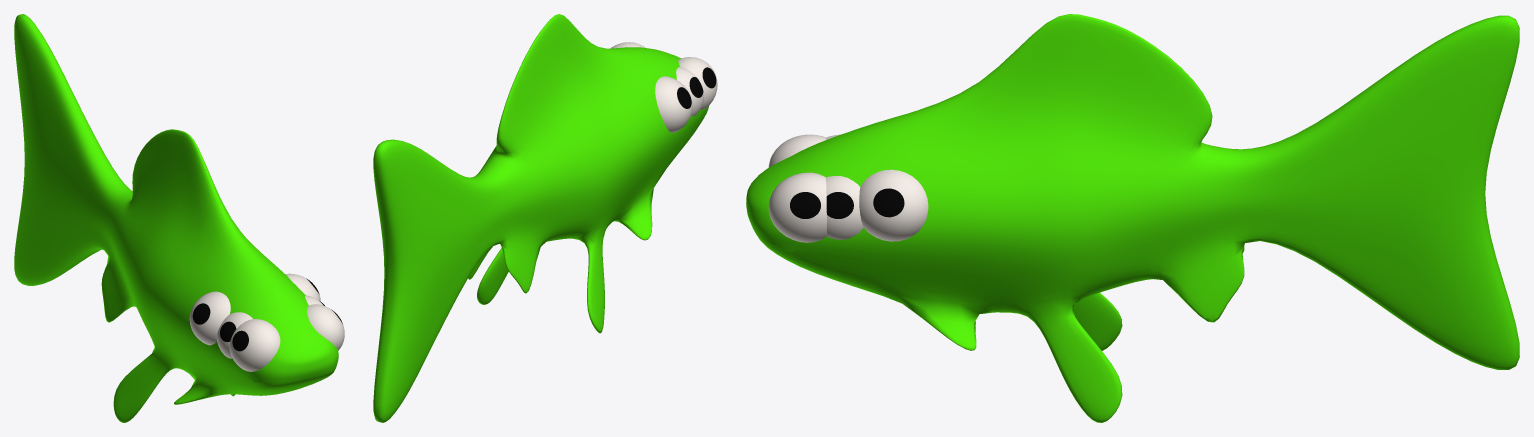
File: mutated fish.glb
3 renders of one model, left to right at view 1: azimuth 30°, elevation 25°; view 2: azimuth 150°, elevation 25°; view 3: azimuth 270°, elevation 25°, orthographic. The views are drawn at different scales.
Visible parts, largest first — view 1: aa, ff.001, ff.002, ff; view 2: aa, ff.002, ff.001, ff; view 3: aa, ff.001, ff.002, ff.
Boxes of the visible parts, left/top/right/bottom form: aa: left=14, top=14, right=338, bottom=422; ff.001: left=229, top=304, right=344, bottom=371; ff.002: left=189, top=273, right=320, bottom=345; ff: left=217, top=295, right=324, bottom=358; aa: left=373, top=14, right=708, bottom=422; ff.002: left=655, top=76, right=692, bottom=132; ff.001: left=610, top=42, right=717, bottom=109; ff: left=676, top=67, right=703, bottom=116; aa: left=746, top=14, right=1519, bottom=422; ff.001: left=768, top=134, right=826, bottom=242; ff.002: left=859, top=169, right=928, bottom=241; ff: left=826, top=134, right=863, bottom=239.
Size of the model in its own units: 1.06 by 2.34 by 4.4.
